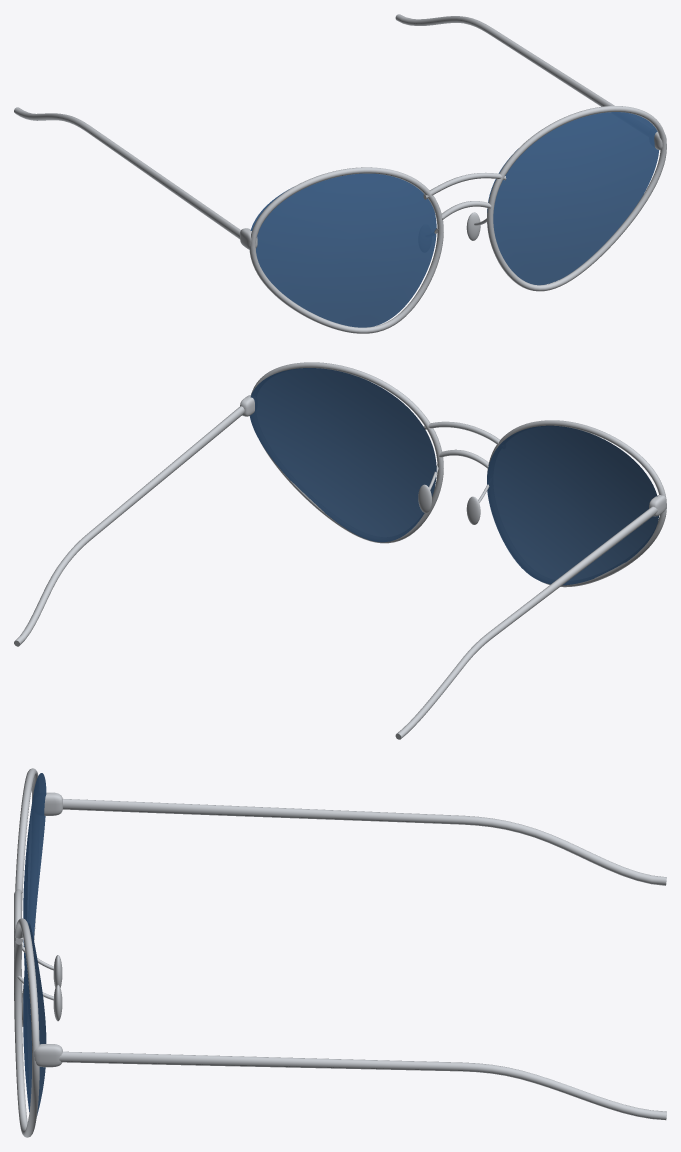
Rendered from TO-AVI-02.glb.
The picture shows the model from 3 angles, top to bottom: view 1: azimuth 30°, elevation 25°; view 2: azimuth 150°, elevation 25°; view 3: azimuth 270°, elevation 25°; orthographic projection. The views are drawn at different scales.
Parts seen in each view (by area): view 1: lenses, frame; view 2: lenses, frame; view 3: frame, lenses.
Part boxes in pixels (left/top/right/bottom): lenses: left=250, top=112, right=659, bottom=327; frame: left=14, top=14, right=666, bottom=333; lenses: left=249, top=368, right=658, bottom=585; frame: left=14, top=362, right=666, bottom=739; frame: left=14, top=768, right=666, bottom=1137; lenses: left=23, top=773, right=46, bottom=1115.
Bounding box in the file's own units: 0.1364 × 0.0527 × 0.1463.
